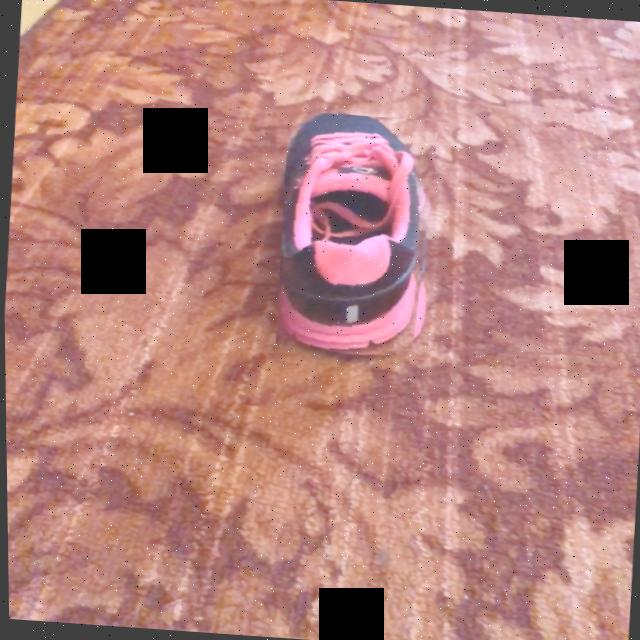shoe: (277, 113, 425, 355)
